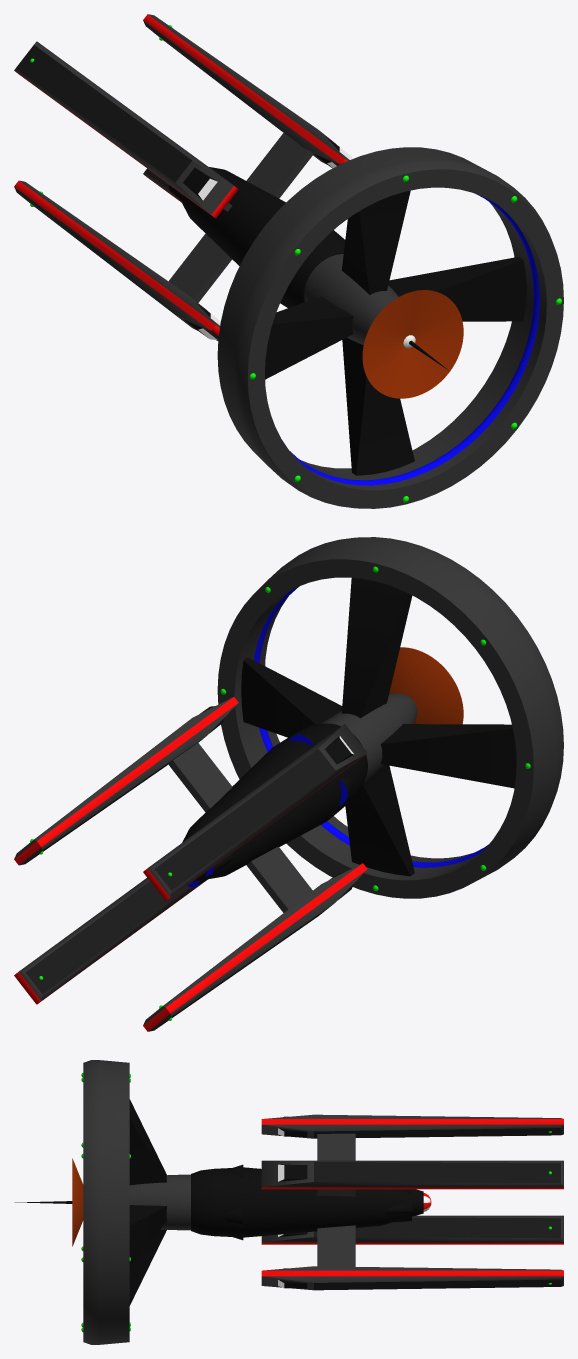
The model's file is OdProbe.FBX.
The picture shows the model from 3 angles, top to bottom: view 1: azimuth 30°, elevation 25°; view 2: azimuth 150°, elevation 25°; view 3: azimuth 270°, elevation 25°; orthographic projection. The views are drawn at different scales.
Parts seen in each view (by area): view 1: Engine, OdProbe, Hull; view 2: Hull, Engine, OdProbe; view 3: Hull, Engine, OdProbe.
Boxes of the visible parts, x1,y1,x2,y2 form: Engine: (217,147,563,508); OdProbe: (265,190,526,475); Hull: (14,14,352,340); Hull: (14,697,367,1031); Engine: (217,537,563,898); OdProbe: (241,578,516,876); Hull: (191,1114,563,1290); Engine: (81,1060,130,1344); OdProbe: (14,1099,190,1305).
Bounding box in the file's own units: 2 × 2 × 3.86.
